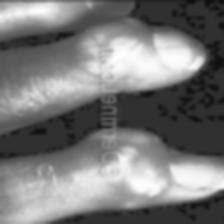Unclassified: (0, 158, 93, 204), (124, 137, 164, 191), (116, 22, 152, 80), (0, 0, 63, 22), (79, 22, 117, 40), (79, 44, 97, 68)
